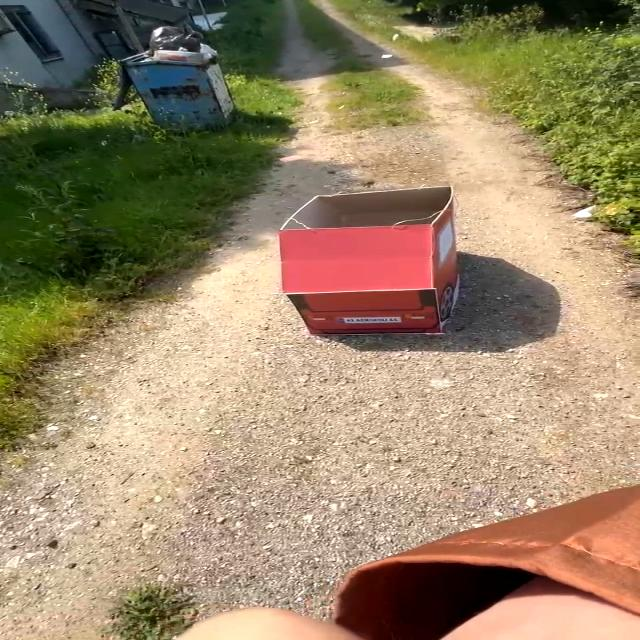red_car: (244, 185, 500, 343)
